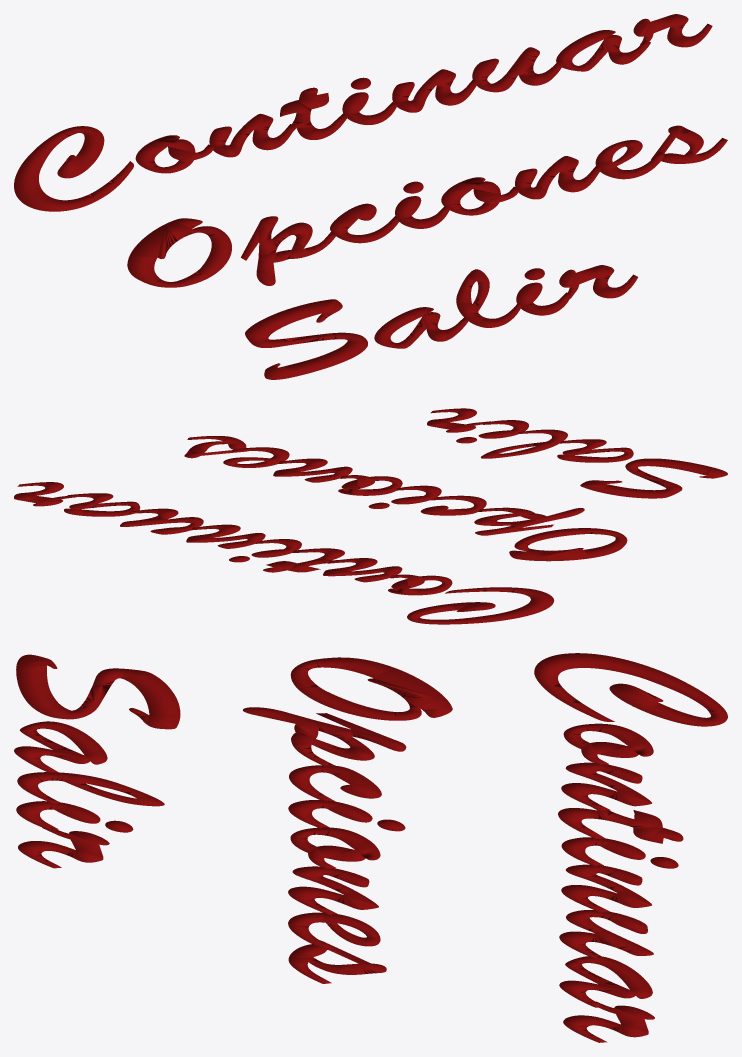
Rendered from pausa_bueno.obj.
The picture shows the model from 3 angles, top to bottom: view 1: azimuth 30°, elevation 25°; view 2: azimuth 150°, elevation 25°; view 3: azimuth 270°, elevation 25°; orthographic projection. The views are drawn at different scales.
Parts seen in each view (by area): view 1: TextPlus001; view 2: TextPlus001; view 3: TextPlus001.
Part boxes in pixels (x1,y1,x2,y2): TextPlus001: (14,14,727,379); TextPlus001: (14,408,727,624); TextPlus001: (14,653,727,1042).
Size of the model in its own units: 84.73 by 0.001 by 65.59.
